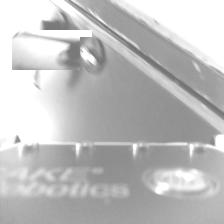Door Handle: (22, 20, 82, 81)
Lock: (80, 37, 104, 77)
